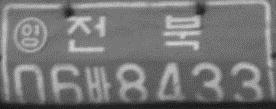0: (12, 62, 46, 106)
3: (229, 60, 264, 103), (190, 61, 224, 104)
4: (156, 61, 185, 105)
6: (49, 62, 83, 104)
8: (115, 62, 148, 104)
바: (84, 64, 111, 103)
영: (12, 15, 48, 53)
전북_D: (65, 13, 204, 53)
